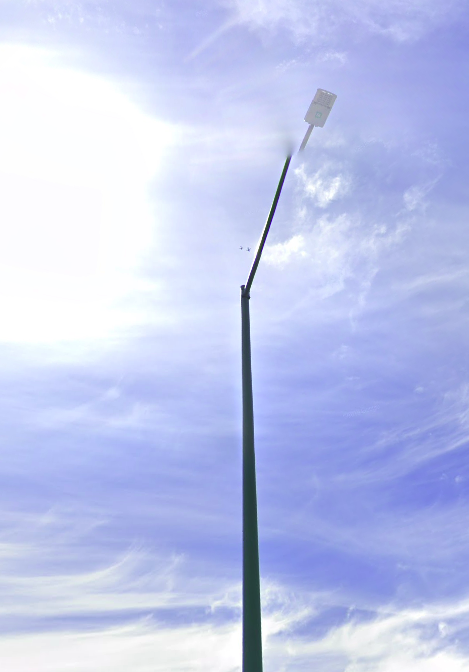pole: (223, 83, 346, 639)
